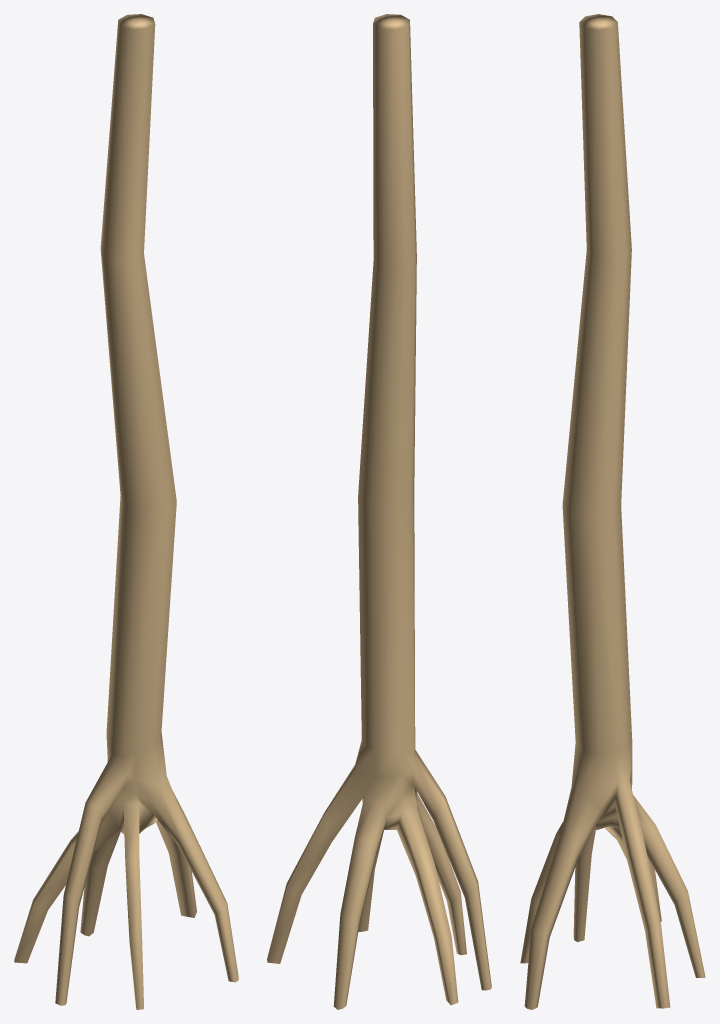
Rendered from ArvoreRaizB.fbx.
The picture shows the model from 3 angles, left to right: view 1: azimuth 30°, elevation 25°; view 2: azimuth 150°, elevation 25°; view 3: azimuth 270°, elevation 25°; orthographic projection.
Parts seen in each view (by area): view 1: pCylinder1; view 2: pCylinder1; view 3: pCylinder1.
Boxes of the visible parts, bbox=[...] form: pCylinder1: bbox=[14, 14, 238, 1009]; pCylinder1: bbox=[267, 14, 491, 1009]; pCylinder1: bbox=[520, 14, 705, 1009].
Size of the model in its own units: 3.09 by 15.06 by 2.63.
